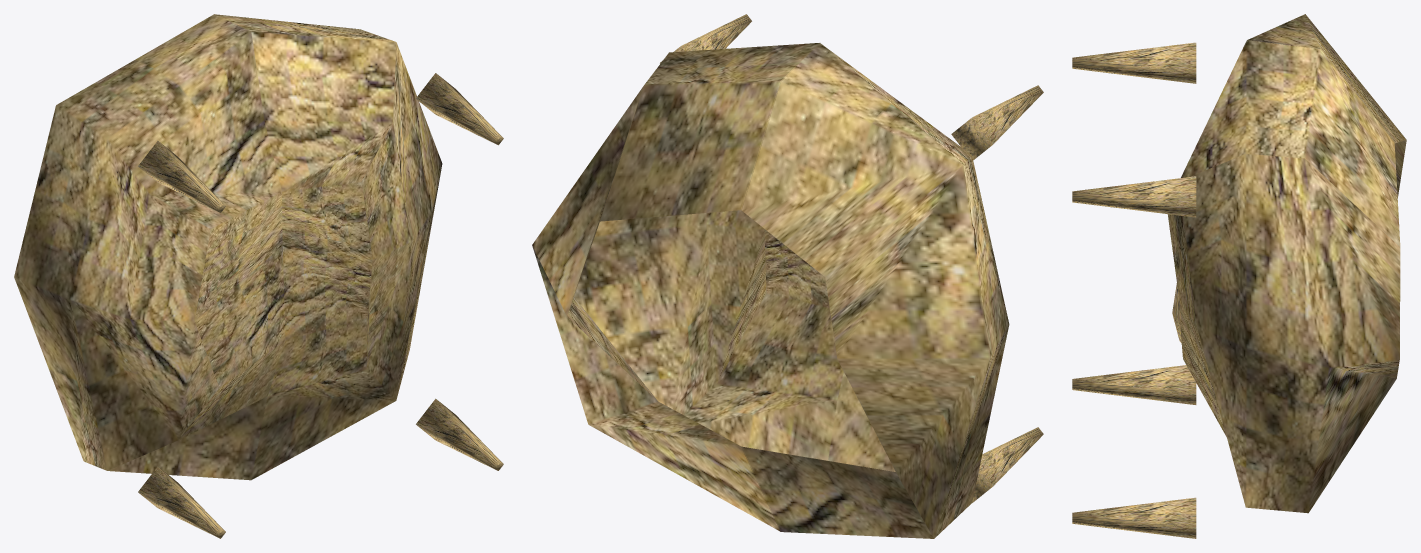
The model's file is stone_000022.obj.
3 views of the same model, side by side, from view 1: azimuth 30°, elevation 25°; view 2: azimuth 150°, elevation 25°; view 3: azimuth 270°, elevation 25° (orthographic). The views are drawn at different scales.
Parts seen in each view (by area): view 1: Cube, Cube.001, Cylinder.002, Cylinder, Cylinder.003, Cylinder.001; view 2: Cube.001, Cube, Cylinder, Cylinder.001, Cylinder.003; view 3: Cube.001, Cube, Cylinder.003, Cylinder.002, Cylinder, Cylinder.001.
Boxes of the visible parts, left/top/right/bottom form: Cube: left=14, top=14, right=285, bottom=480; Cube.001: left=215, top=14, right=442, bottom=479; Cylinder.002: left=416, top=398, right=503, bottom=470; Cylinder: left=138, top=141, right=225, bottom=212; Cylinder.003: left=415, top=73, right=503, bottom=145; Cylinder.001: left=138, top=466, right=225, bottom=538; Cube.001: left=532, top=43, right=843, bottom=531; Cube: left=741, top=43, right=1009, bottom=538; Cylinder: left=951, top=85, right=1043, bottom=160; Cylinder.001: left=972, top=427, right=1043, bottom=502; Cylinder.003: left=660, top=14, right=751, bottom=63; Cube.001: left=1167, top=40, right=1400, bottom=513; Cube: left=1172, top=14, right=1406, bottom=342; Cylinder.003: left=1072, top=176, right=1196, bottom=217; Cylinder.002: left=1072, top=497, right=1196, bottom=538; Cylinder: left=1072, top=42, right=1196, bottom=83; Cylinder.001: left=1072, top=365, right=1196, bottom=404.
Bounding box in the file's own units: 6.65 × 6.59 × 4.52.
